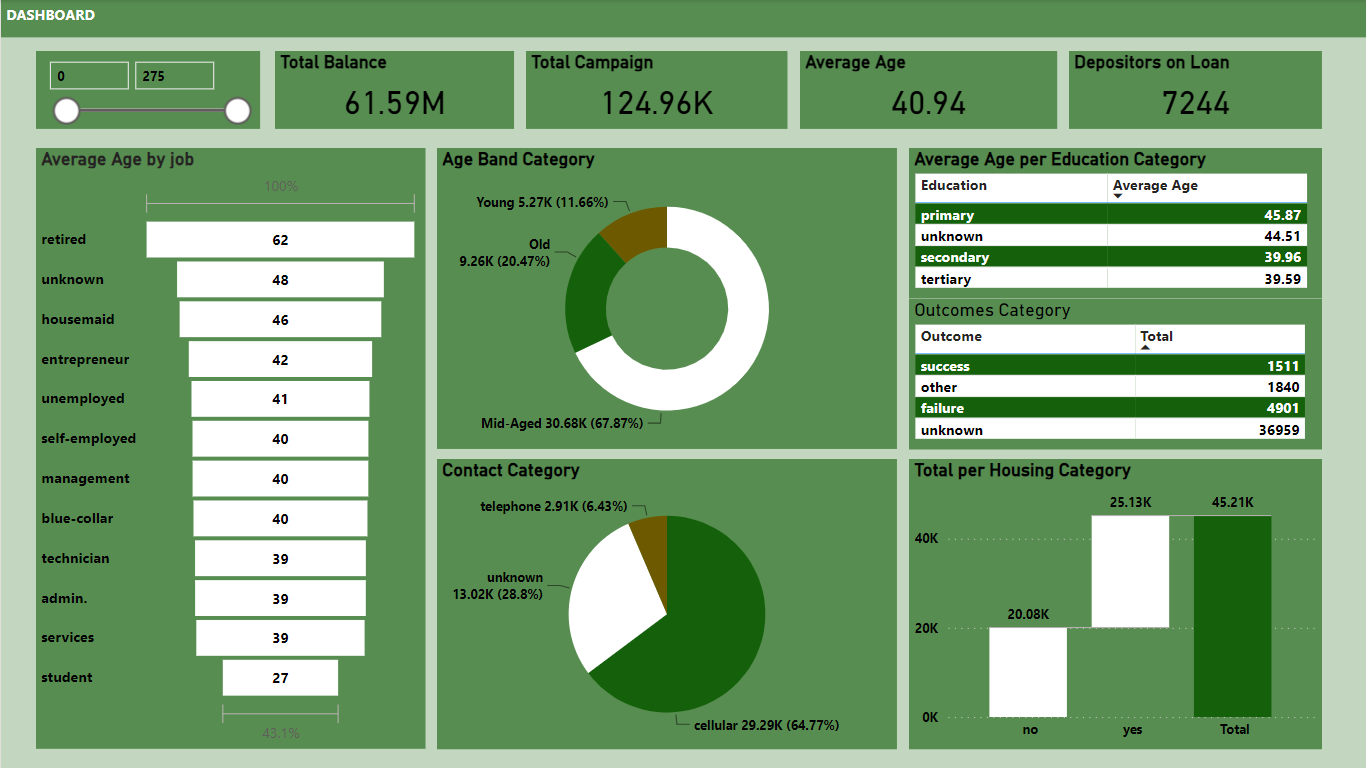

The dashboard page shown, as its layout file describes it:
{"tool":"powerbi","page":{"name":"Page 2","canvas":[1280,720],"ordinal":3},"visuals":[{"type":"tableEx","title":"Average Age per Education Category","fields":{"Values":["bank-full.education","bank-full.age"]},"box":[850.8,138.7,387,141.5],"z":0},{"type":"pieChart","title":"Contact Category","fields":{"Category":["bank-full.contact"],"Y":["CountNonNull(bank-full.contact)"]},"box":[408.6,430.1,431,271.7],"z":1000},{"type":"tableEx","title":"Outcomes Category","fields":{"Values":["bank-full.poutcome","CountNonNull(bank-full.poutcome)"]},"box":[850.8,280.2,387,140.6],"z":2000},{"type":"funnel","fields":{"Y":["Measures Table.Average Age"],"Category":["bank-full.job"]},"box":[32.8,138.7,364.5,563.2],"z":3000},{"type":"waterfallChart","title":"Total per Housing Category","fields":{"Category":["bank-full.housing"],"Y":["CountNonNull(bank-full.housing)"]},"box":[850.8,430.1,387,271.7],"z":4000},{"type":"slicer","fields":{"Values":["bank-full.previous"]},"box":[32.8,47.8,209.9,73.1],"z":5000},{"type":"donutChart","title":"Age Band Category","fields":{"Category":["bank-full.Age Band"],"Y":["CountNonNull(bank-full.Age Band)"]},"box":[408.6,138.7,431,282],"z":6000},{"type":"card","title":"Total Balance","fields":{"Values":["Measures Table.Total Balance"]},"box":[256.7,47.8,224,73.1],"z":7000},{"type":"textbox","box":[0,0,1280,34.7],"z":8000},{"type":"card","title":"Total Campaign","fields":{"Values":["Measures Table.Total Campaign"]},"box":[491.9,47.8,244.6,73.1],"z":9000},{"type":"card","title":"Average Age","fields":{"Values":["Measures Table.Average Age"]},"box":[748.7,47.8,240.8,73.1],"z":10000},{"type":"card","title":"Depositors on Loan","fields":{"Values":["Measures Table.Total Depositors on Loan"]},"box":[1000.8,47.8,237.1,73.1],"z":11000}]}

Visuals, with their boxes in screenshot pixels (x1, y1, x2, y2), scaled from the page's 1280x720 canvas onto the 1366x768 screenshot:
"Average Age per Education Category" tableEx: bbox=(908, 148, 1321, 299)
"Contact Category" pieChart: bbox=(436, 459, 896, 749)
"Outcomes Category" tableEx: bbox=(908, 299, 1321, 449)
funnel - Measures Table.Average Age x bank-full.job: bbox=(35, 148, 424, 749)
"Total per Housing Category" waterfallChart: bbox=(908, 459, 1321, 749)
slicer - bank-full.previous: bbox=(35, 51, 259, 129)
"Age Band Category" donutChart: bbox=(436, 148, 896, 449)
"Total Balance" card: bbox=(274, 51, 513, 129)
textbox: bbox=(0, 0, 1365, 37)
"Total Campaign" card: bbox=(525, 51, 786, 129)
"Average Age" card: bbox=(799, 51, 1056, 129)
"Depositors on Loan" card: bbox=(1068, 51, 1321, 129)
